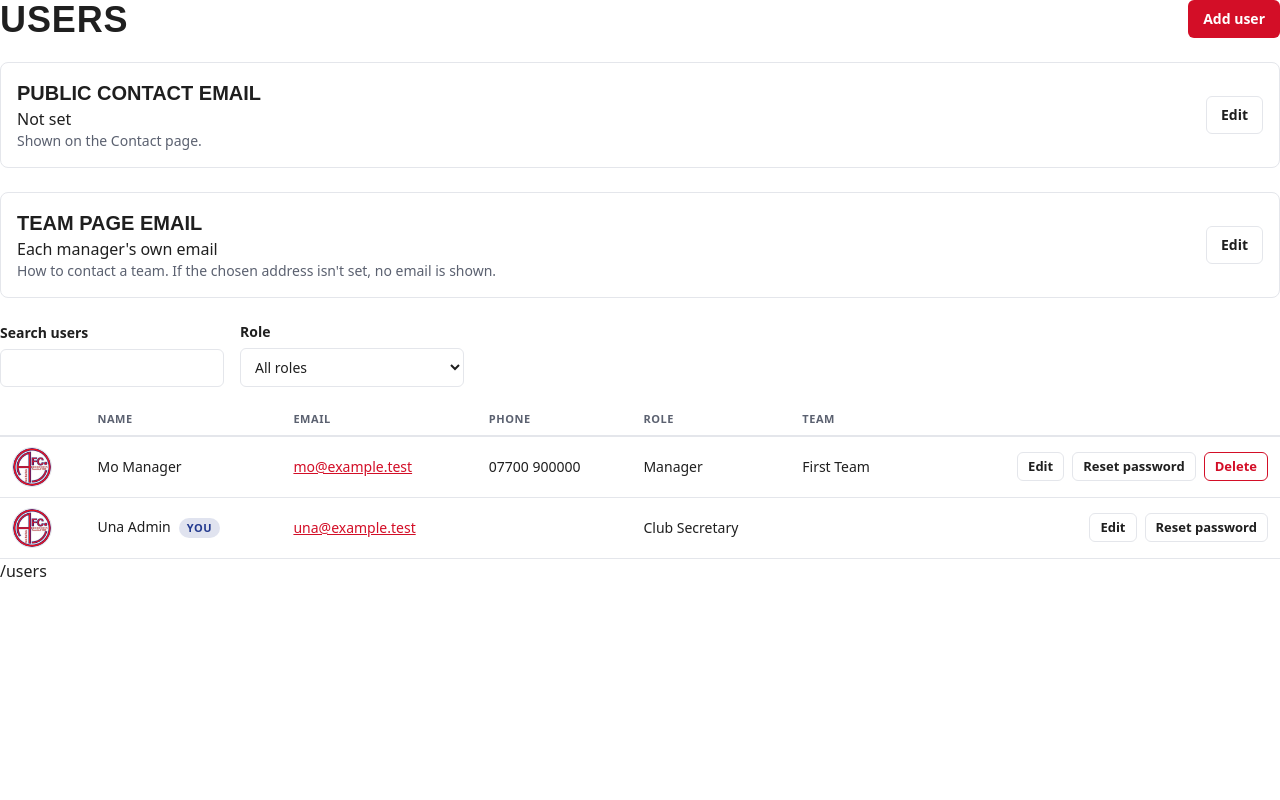
Test case: UserDialog › opens Add empty straight after closing Edit
The width and height of the screenshot is (1280, 800).
Click the button "Edit" in the row of "Mo Manager".
click(1041, 467)  # box [1017,452,1064,481]
(page scrolled)
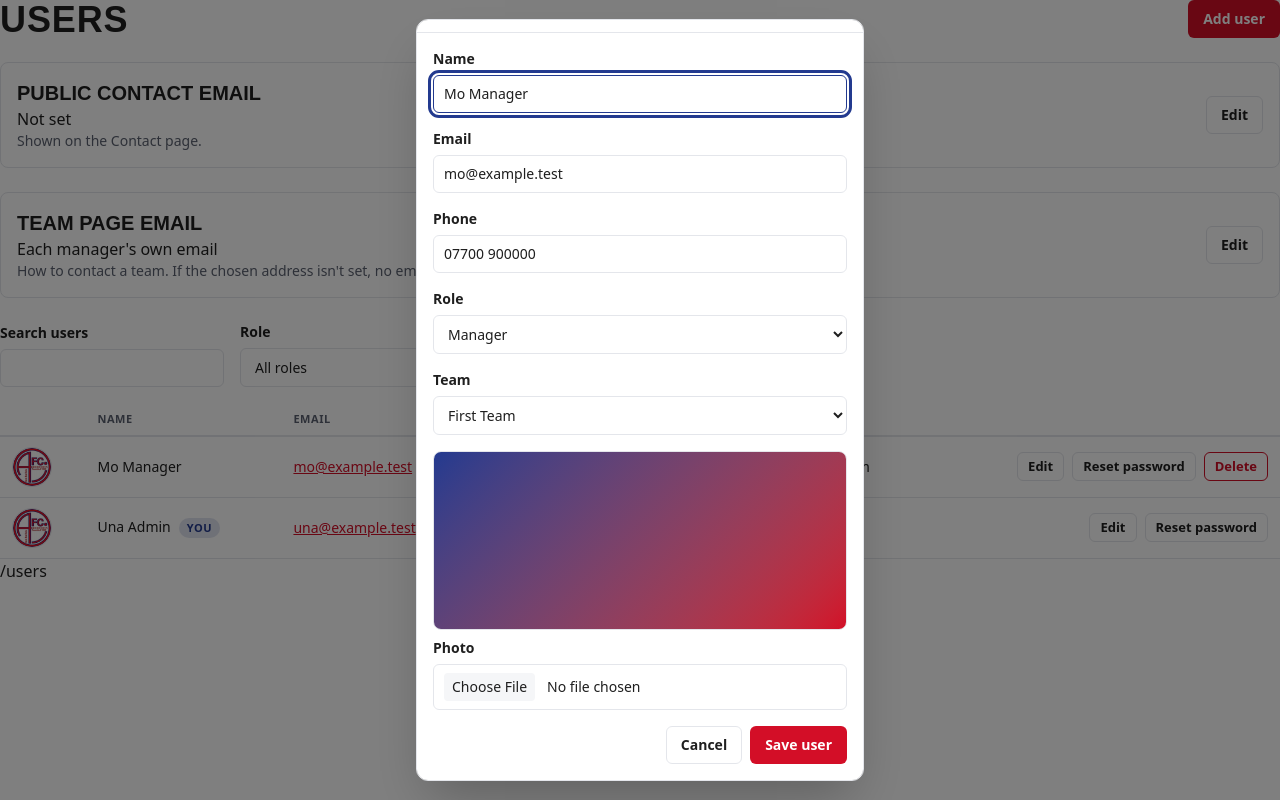
Click the button "Cancel".
click(704, 745)  # box [666,726,742,764]
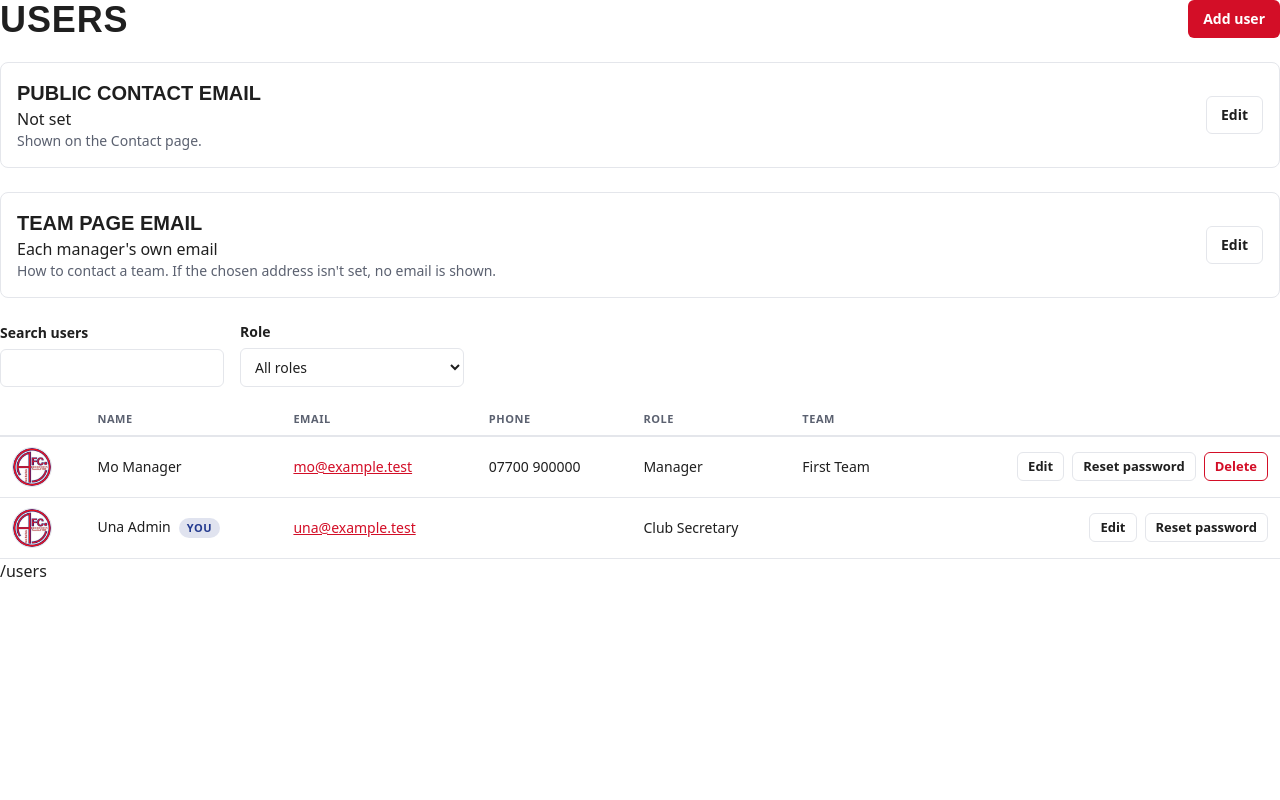
Click the button "Add user".
click(1234, 19)  # box [1188,0,1279,38]
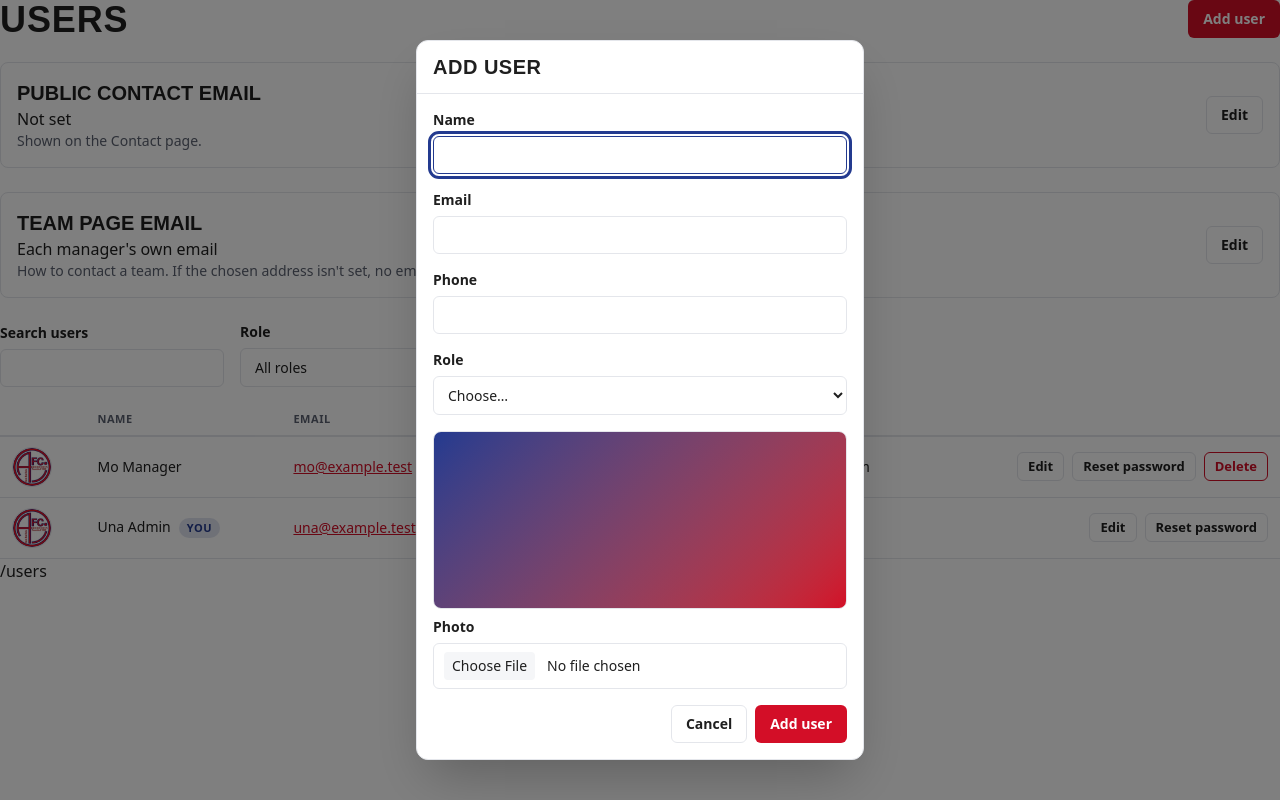
Expected: the field labelled "Name" is empty, [433,136,847,174]
Expected: the dropdown labelled "Role" shows "Choose…", [433,376,847,415]
